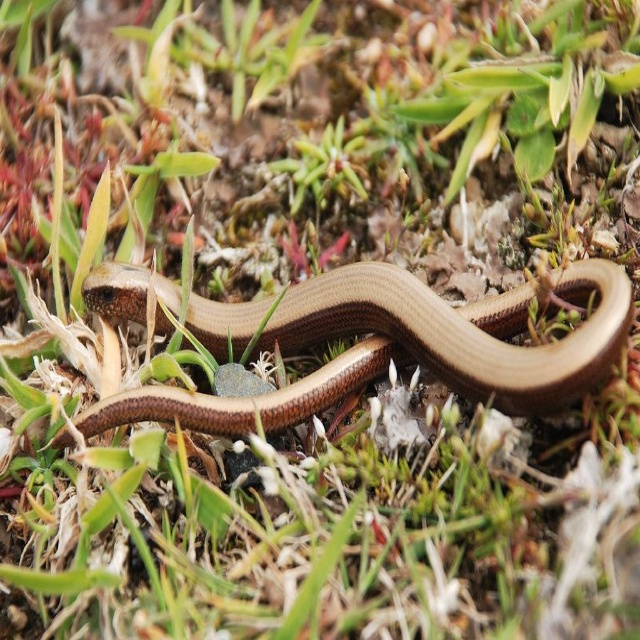Snake: (52, 258, 634, 449)
